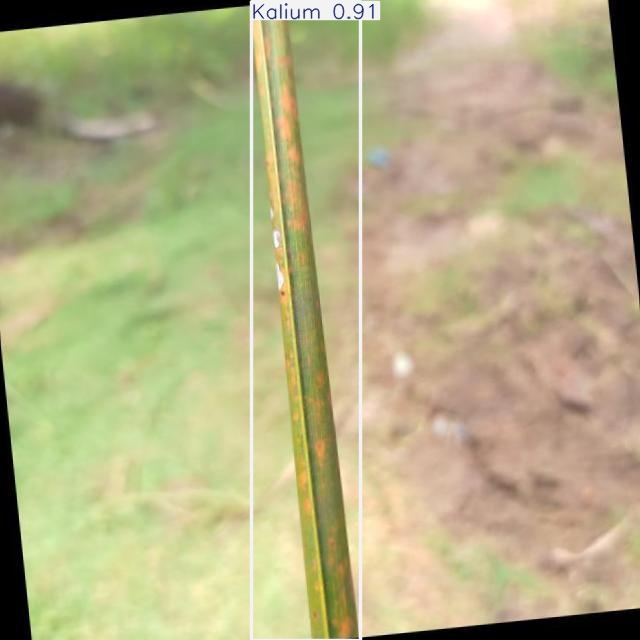Kalium: (252, 1, 360, 640)
